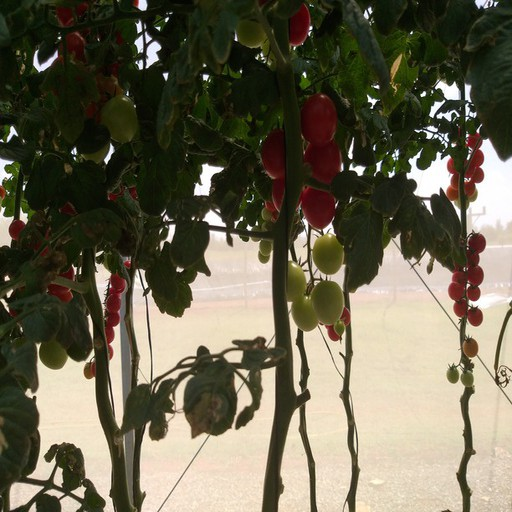green tomato bunch: (255, 211, 306, 263)
mixed tomato bunch: (54, 2, 140, 159), (231, 1, 309, 62)
red tomato bunch: (54, 2, 140, 159), (266, 92, 338, 225), (80, 257, 132, 378), (10, 222, 73, 304), (448, 228, 485, 328), (449, 132, 484, 201)
